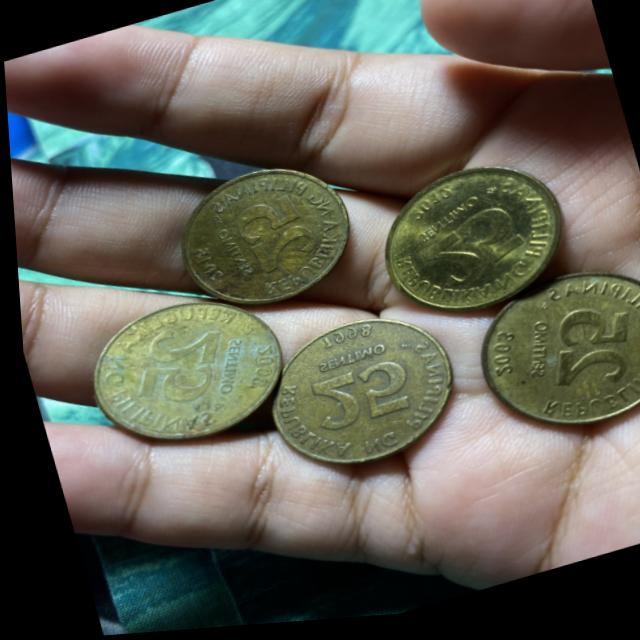25Cent_Old_Front: (116, 318, 230, 422), (528, 304, 640, 407), (415, 209, 525, 297), (296, 358, 410, 442), (228, 194, 319, 277)
